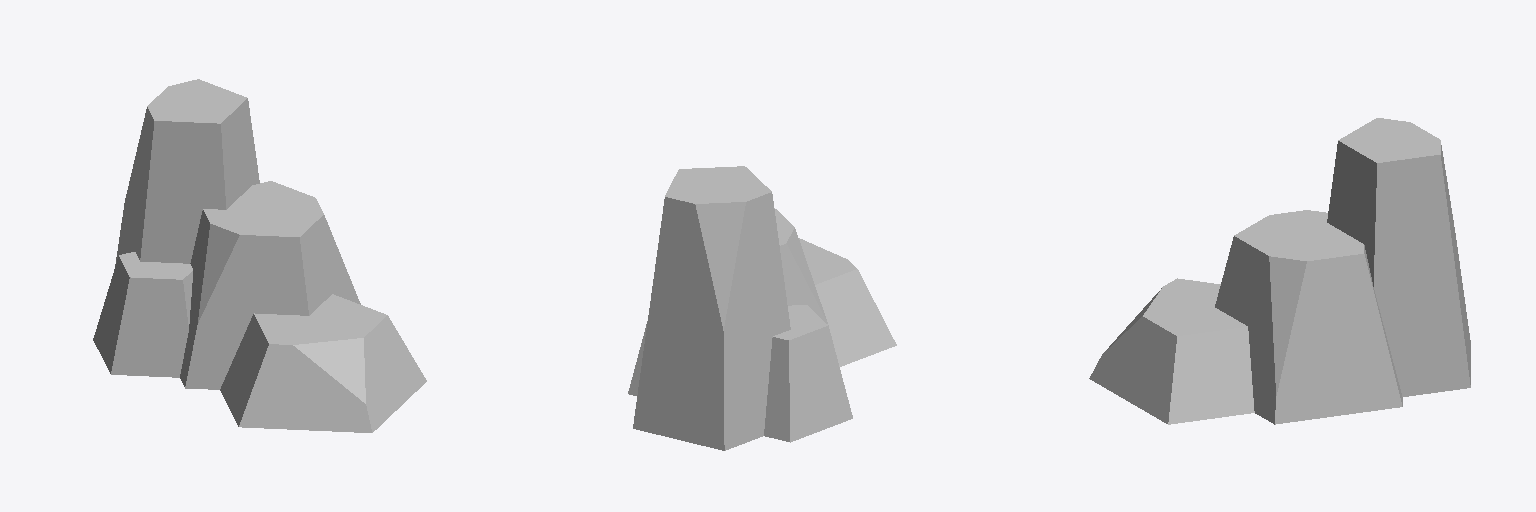
File: rockC5.obj
3 renders of one model, left to right at view 1: azimuth 30°, elevation 25°; view 2: azimuth 150°, elevation 25°; view 3: azimuth 270°, elevation 25°, orthographic.
Parts seen in each view (by area): view 1: rockC2; view 2: rockC2; view 3: rockC2.
Boxes of the visible parts, <box> form: rockC2: <box>93,79,426,432</box>; rockC2: <box>628,166,896,450</box>; rockC2: <box>1089,118,1470,424</box>.
Size of the model in its own units: 2.19 by 2.04 by 3.13.